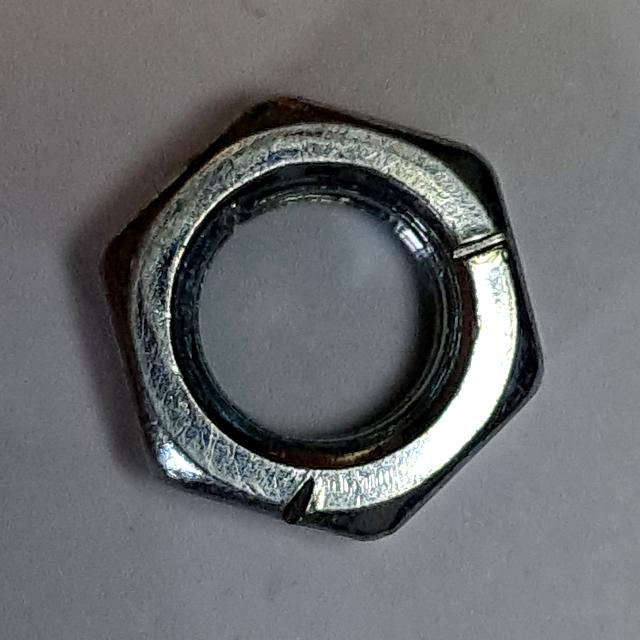Scratches: (83, 79, 555, 564)
